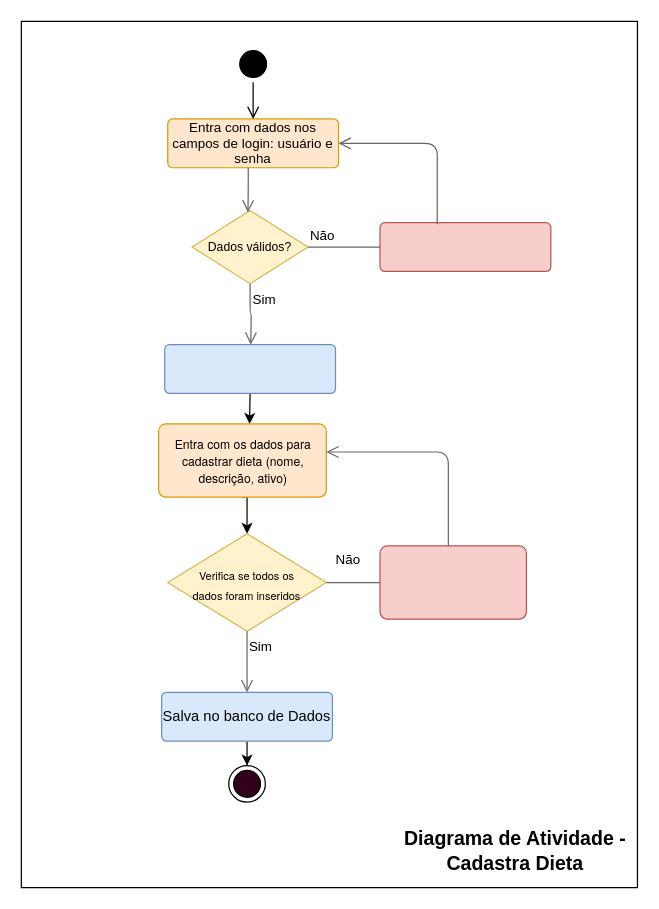
Some shapes in this 659 by 909 pixel diagram are drawn without their labels. Here are the shapes that lost their labels. From the top down, the centre of each, then its label:
point (465, 246): Exibe mensagem de erro: Login Incorreto, Por favor tente novamente.
point (249, 368): Login - DietaJa
point (452, 582): Existem campos não preenchidos (campos)
